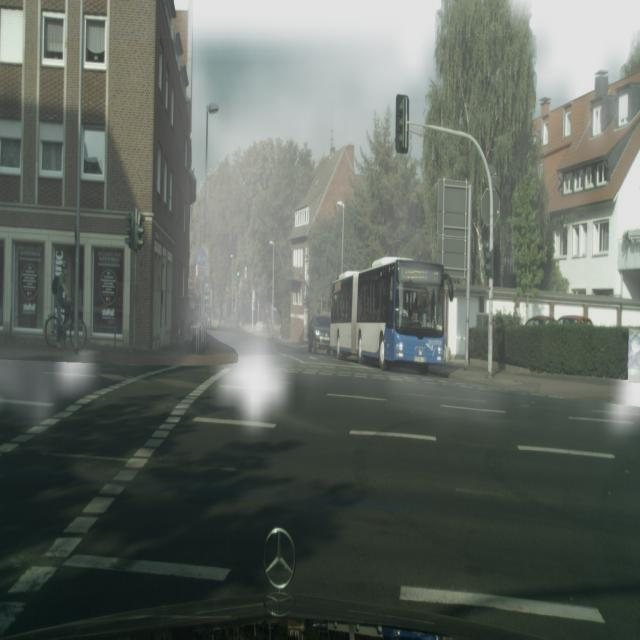bicycle: (330, 258, 454, 372)
car: (44, 301, 88, 351)
person: (53, 263, 73, 344)
truck: (308, 313, 331, 354)
